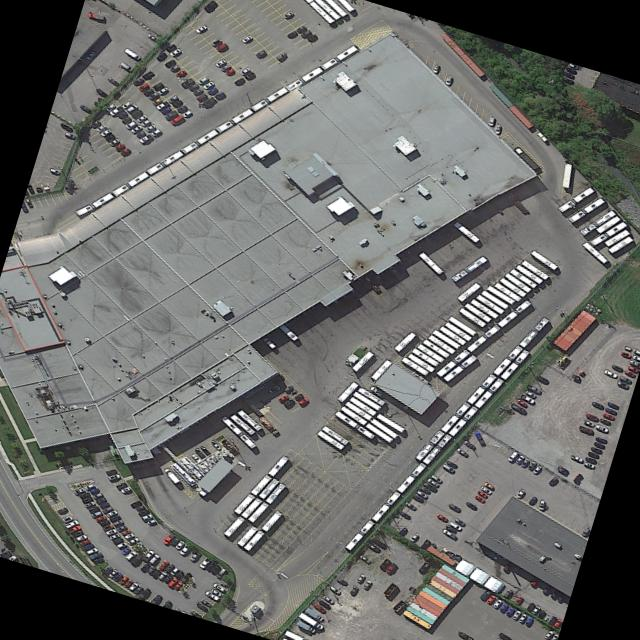large-vehicle: (332, 409, 374, 438), (219, 414, 255, 447), (318, 42, 359, 70), (556, 184, 595, 212), (73, 190, 115, 216), (441, 352, 477, 382), (110, 169, 150, 196), (179, 127, 219, 154), (434, 347, 470, 376), (213, 106, 253, 132), (566, 195, 604, 222), (517, 315, 549, 347), (438, 400, 470, 432), (577, 208, 616, 234), (144, 148, 183, 174), (249, 85, 288, 111), (495, 298, 531, 326), (464, 323, 500, 351), (450, 254, 487, 281), (369, 489, 400, 521), (465, 371, 496, 403), (491, 343, 522, 375), (498, 347, 529, 379), (284, 65, 323, 90), (420, 432, 451, 463), (446, 404, 477, 435), (472, 376, 503, 407), (395, 461, 425, 492), (413, 428, 443, 459), (343, 518, 373, 549), (588, 220, 626, 244), (512, 144, 539, 169), (451, 219, 480, 242), (484, 283, 515, 304), (307, 0, 335, 23), (519, 257, 548, 279), (368, 416, 397, 438), (473, 292, 503, 313), (446, 314, 476, 335), (430, 327, 460, 348), (350, 389, 380, 410), (374, 411, 404, 432), (363, 421, 393, 442), (417, 250, 443, 274), (503, 270, 531, 292), (426, 332, 454, 354), (492, 280, 521, 301), (497, 275, 526, 296), (507, 266, 536, 287), (528, 248, 557, 269), (580, 240, 607, 262), (514, 262, 542, 283), (457, 305, 485, 326), (443, 319, 471, 340), (405, 351, 433, 372), (356, 384, 384, 405), (315, 428, 343, 449), (320, 423, 348, 444), (468, 297, 497, 317), (479, 288, 508, 308), (437, 324, 466, 344), (399, 355, 428, 375), (409, 346, 438, 366), (338, 404, 367, 424), (349, 349, 374, 372), (235, 407, 260, 430), (228, 412, 254, 434), (462, 301, 490, 321), (421, 337, 449, 357), (348, 395, 376, 415), (343, 399, 371, 419), (415, 342, 444, 361), (392, 329, 416, 351), (335, 379, 359, 401), (606, 234, 633, 253), (256, 476, 279, 498), (241, 528, 264, 550), (245, 500, 268, 522), (314, 0, 340, 19), (297, 610, 323, 629), (369, 357, 391, 379), (222, 514, 244, 536), (263, 481, 285, 503), (266, 453, 288, 475), (259, 509, 282, 530), (239, 496, 262, 517), (232, 492, 255, 513), (455, 281, 479, 301), (594, 214, 620, 232), (235, 524, 257, 545), (248, 473, 270, 494), (603, 228, 629, 245), (324, 0, 346, 16), (560, 161, 572, 187), (283, 628, 309, 640), (295, 618, 315, 632), (163, 467, 180, 483), (303, 606, 322, 620), (338, 0, 354, 11)
small-vehicle: (122, 46, 140, 59), (370, 536, 387, 549), (191, 445, 206, 459), (454, 629, 473, 640), (509, 401, 526, 413), (261, 335, 276, 348), (202, 0, 218, 12), (525, 382, 542, 393), (377, 556, 391, 569), (477, 482, 492, 494), (440, 461, 455, 473), (136, 586, 151, 598), (163, 108, 178, 120), (177, 542, 192, 554), (473, 430, 485, 445), (200, 95, 215, 107), (518, 392, 534, 403), (117, 60, 133, 71), (203, 589, 219, 600), (168, 113, 184, 124), (62, 518, 79, 528), (141, 548, 154, 561), (203, 559, 216, 572), (505, 449, 519, 461), (434, 510, 448, 522), (441, 527, 456, 538), (446, 501, 461, 512), (320, 593, 335, 604), (368, 384, 383, 395), (108, 104, 123, 115), (137, 131, 152, 142), (454, 446, 469, 457), (179, 76, 194, 87), (496, 630, 512, 640), (384, 560, 396, 573), (416, 560, 429, 572), (478, 587, 491, 599), (198, 444, 211, 456), (197, 555, 210, 567), (179, 570, 192, 582), (464, 499, 478, 510), (447, 519, 461, 530), (414, 488, 428, 499), (317, 598, 331, 609), (198, 596, 212, 607), (211, 581, 225, 592), (86, 550, 103, 559), (568, 452, 583, 462), (587, 444, 602, 454), (593, 422, 608, 432), (366, 542, 381, 552), (402, 500, 417, 510), (421, 480, 436, 490), (617, 373, 632, 383), (58, 121, 73, 131), (509, 608, 521, 620), (523, 600, 535, 612), (148, 552, 160, 564), (129, 552, 141, 564), (188, 549, 200, 561), (214, 566, 226, 578), (472, 492, 485, 503), (452, 515, 465, 526), (397, 508, 410, 519), (410, 493, 424, 503), (590, 399, 604, 409), (534, 373, 548, 383), (312, 602, 326, 612), (425, 476, 439, 486), (428, 472, 442, 482), (443, 458, 457, 468), (140, 69, 154, 79), (154, 99, 168, 109), (94, 87, 108, 97), (129, 108, 143, 118), (240, 33, 254, 43), (560, 68, 574, 78), (194, 601, 208, 611), (213, 57, 227, 67), (577, 424, 592, 433), (501, 587, 513, 598), (484, 593, 496, 604), (418, 537, 430, 548), (347, 584, 359, 595), (157, 558, 169, 569), (166, 575, 178, 586), (172, 568, 184, 579), (209, 563, 221, 574), (482, 480, 495, 490), (334, 575, 347, 585), (357, 553, 370, 563), (99, 126, 112, 136), (125, 102, 138, 112), (129, 123, 142, 133), (214, 41, 227, 51), (209, 36, 222, 46), (233, 75, 246, 85), (196, 74, 209, 84), (129, 498, 142, 508), (582, 455, 596, 464), (602, 368, 616, 377), (584, 411, 598, 420), (601, 411, 615, 420), (603, 406, 617, 415), (605, 400, 619, 409), (617, 348, 631, 357), (93, 122, 107, 131), (78, 103, 92, 112), (193, 23, 207, 32), (461, 439, 475, 448), (560, 75, 574, 84), (201, 79, 215, 88), (526, 459, 537, 470), (542, 628, 553, 639), (491, 597, 502, 608), (513, 594, 524, 605), (361, 578, 372, 589), (354, 572, 365, 583), (408, 530, 419, 541), (475, 488, 487, 498), (514, 487, 526, 497), (530, 463, 542, 473), (517, 611, 527, 623), (498, 601, 508, 613), (444, 522, 456, 532), (163, 57, 175, 67), (155, 51, 167, 61), (132, 75, 144, 85), (124, 549, 136, 559), (106, 567, 118, 577), (209, 439, 221, 449), (188, 451, 200, 461), (492, 121, 502, 133), (195, 91, 207, 101), (593, 434, 606, 443), (581, 417, 594, 426), (327, 584, 340, 593), (417, 484, 430, 493), (598, 416, 611, 425), (609, 362, 622, 371), (622, 368, 635, 377), (168, 46, 181, 55), (105, 76, 118, 85), (126, 535, 139, 544), (155, 85, 168, 94), (141, 86, 154, 95), (118, 146, 131, 155), (166, 93, 179, 102), (119, 99, 132, 108), (123, 119, 136, 128), (149, 126, 162, 135), (281, 397, 294, 406), (267, 383, 280, 392), (281, 9, 294, 18), (285, 29, 298, 38), (108, 512, 121, 521), (104, 526, 117, 535), (175, 103, 188, 112), (581, 460, 595, 468), (585, 450, 599, 458), (66, 524, 80, 532), (546, 475, 557, 485), (518, 456, 529, 466), (513, 453, 524, 463), (504, 605, 514, 616), (551, 617, 562, 627), (546, 614, 556, 625), (530, 603, 540, 614), (127, 580, 138, 590), (84, 49, 95, 59), (117, 574, 128, 584), (101, 564, 112, 574), (139, 561, 150, 571), (501, 560, 512, 570), (555, 590, 565, 601), (103, 101, 114, 111), (514, 397, 526, 406), (627, 364, 639, 373), (164, 42, 176, 51), (136, 81, 148, 90), (151, 80, 163, 89), (111, 535, 123, 544), (71, 528, 83, 537), (75, 532, 87, 541), (78, 537, 90, 546), (85, 545, 97, 554), (146, 90, 158, 99), (108, 136, 120, 145), (113, 141, 125, 150), (171, 98, 183, 107), (160, 105, 172, 114), (88, 118, 100, 127), (135, 112, 147, 121), (139, 117, 151, 126), (296, 396, 308, 405), (294, 23, 306, 32), (306, 32, 318, 41), (254, 48, 266, 57), (209, 587, 221, 596), (72, 485, 84, 494), (91, 490, 103, 499), (105, 507, 117, 516), (219, 62, 231, 71), (136, 507, 148, 516), (181, 108, 193, 117), (119, 484, 131, 493), (591, 440, 604, 448), (523, 389, 536, 397), (627, 358, 640, 366), (145, 32, 158, 40), (81, 542, 94, 550), (103, 132, 116, 140), (89, 509, 102, 517), (77, 490, 90, 498), (93, 495, 106, 503), (93, 514, 106, 522), (397, 525, 407, 535), (162, 573, 172, 583), (579, 526, 590, 535), (524, 615, 533, 626), (132, 584, 143, 593), (163, 562, 174, 571), (135, 128, 146, 137), (108, 531, 119, 540), (277, 393, 288, 402), (282, 383, 293, 392), (300, 28, 311, 37), (275, 51, 286, 60), (486, 114, 495, 125), (168, 565, 179, 574), (239, 65, 250, 74), (106, 472, 120, 479), (616, 380, 628, 388), (47, 166, 59, 174), (174, 68, 186, 76), (63, 130, 75, 138), (150, 96, 162, 104), (119, 115, 131, 123), (119, 527, 131, 535), (564, 65, 576, 73), (83, 499, 95, 507), (87, 504, 99, 512), (100, 504, 112, 512), (98, 517, 110, 525), (101, 522, 113, 530), (56, 506, 68, 514), (60, 514, 72, 522), (140, 512, 152, 520), (191, 86, 203, 94), (243, 70, 255, 78), (205, 86, 217, 94), (187, 82, 199, 90), (80, 495, 93, 502), (527, 494, 536, 504), (112, 571, 122, 580), (120, 546, 130, 555), (156, 570, 166, 579), (541, 582, 550, 592), (430, 62, 439, 72), (443, 74, 452, 84), (174, 539, 184, 548), (172, 580, 182, 589), (0, 549, 11, 557), (537, 498, 545, 509), (168, 63, 179, 71), (92, 555, 103, 563), (25, 197, 33, 208), (116, 110, 127, 118), (144, 122, 155, 130), (123, 531, 134, 539), (292, 392, 303, 400), (88, 485, 99, 493), (98, 500, 109, 508), (83, 481, 94, 489), (213, 90, 224, 98), (115, 481, 126, 489), (115, 540, 127, 547), (115, 523, 127, 530), (104, 467, 116, 474), (536, 608, 545, 617), (631, 346, 640, 355), (123, 577, 132, 586), (146, 564, 155, 573), (529, 576, 538, 585), (549, 587, 558, 596), (548, 632, 558, 640), (224, 66, 234, 74), (151, 568, 159, 577), (134, 503, 144, 510), (112, 518, 123, 524), (631, 353, 640, 360), (146, 517, 155, 524), (494, 637, 503, 640)
